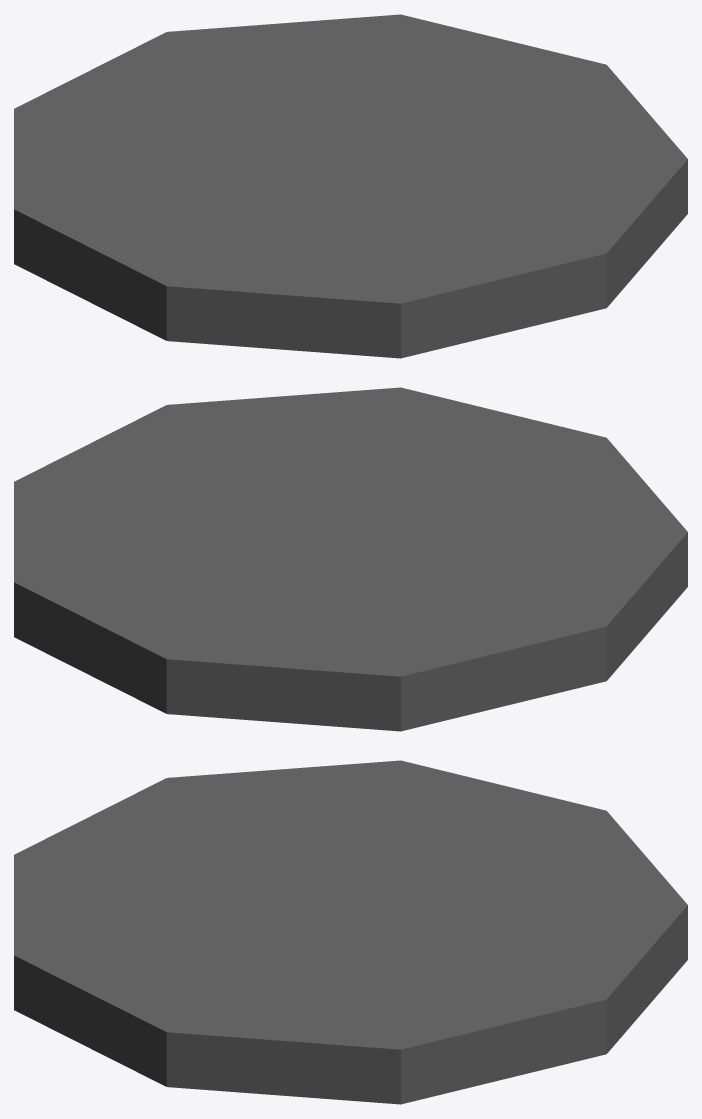
The model's file is Simon_Button.gltf.
3 renders of one model, top to bottom at view 1: azimuth 30°, elevation 25°; view 2: azimuth 150°, elevation 25°; view 3: azimuth 270°, elevation 25°, orthographic.
Parts seen in each view (by area): view 1: Circle.002; view 2: Circle.002; view 3: Circle.002.
Boxes of the visible parts, x1,y1,x2,y2 form: Circle.002: [14, 14, 687, 358]; Circle.002: [14, 387, 687, 731]; Circle.002: [14, 760, 687, 1104].
Size of the model in its own units: 0.9474 by 0.0837 by 0.933.
1 material, 1 textured.
